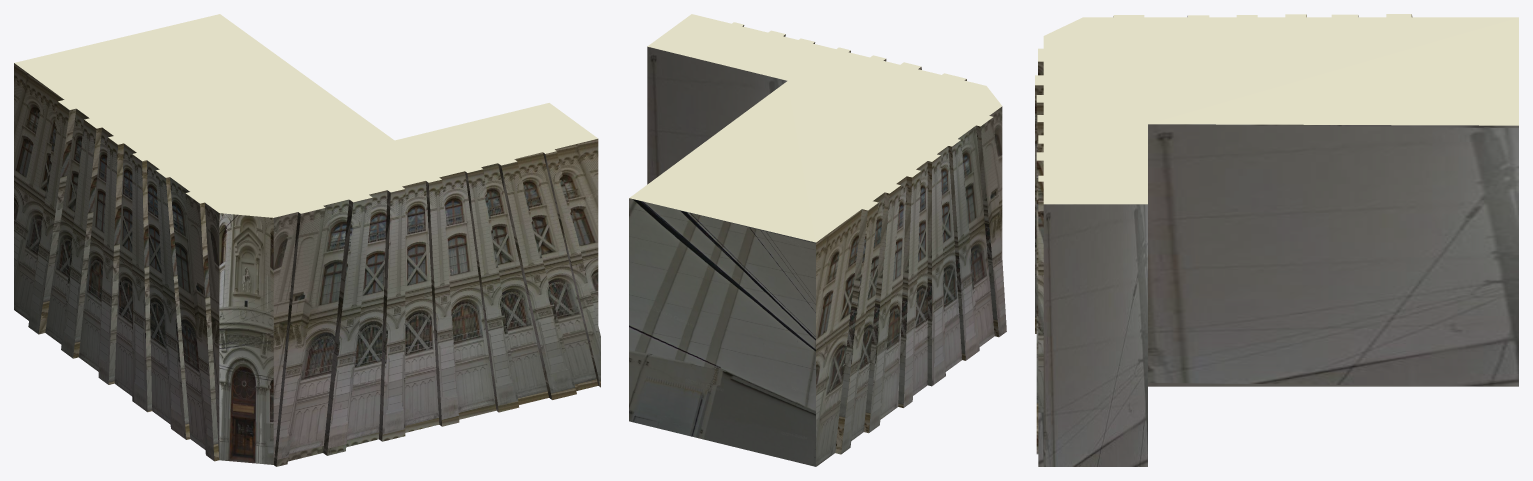
The model's file is EdificioBlanco.fbx.
3 renders of one model, left to right at view 1: azimuth 30°, elevation 25°; view 2: azimuth 150°, elevation 25°; view 3: azimuth 270°, elevation 25°, orthographic. The views are drawn at different scales.
Visible parts, largest first — view 1: Model; view 2: Model; view 3: Model.
Boxes of the visible parts, x1=… form: Model: x1=14, y1=14, x2=600, y2=466; Model: x1=629, y1=14, x2=1006, y2=466; Model: x1=1035, y1=14, x2=1518, y2=466.
Size of the model in its own units: 30.3 by 19.48 by 32.53.
